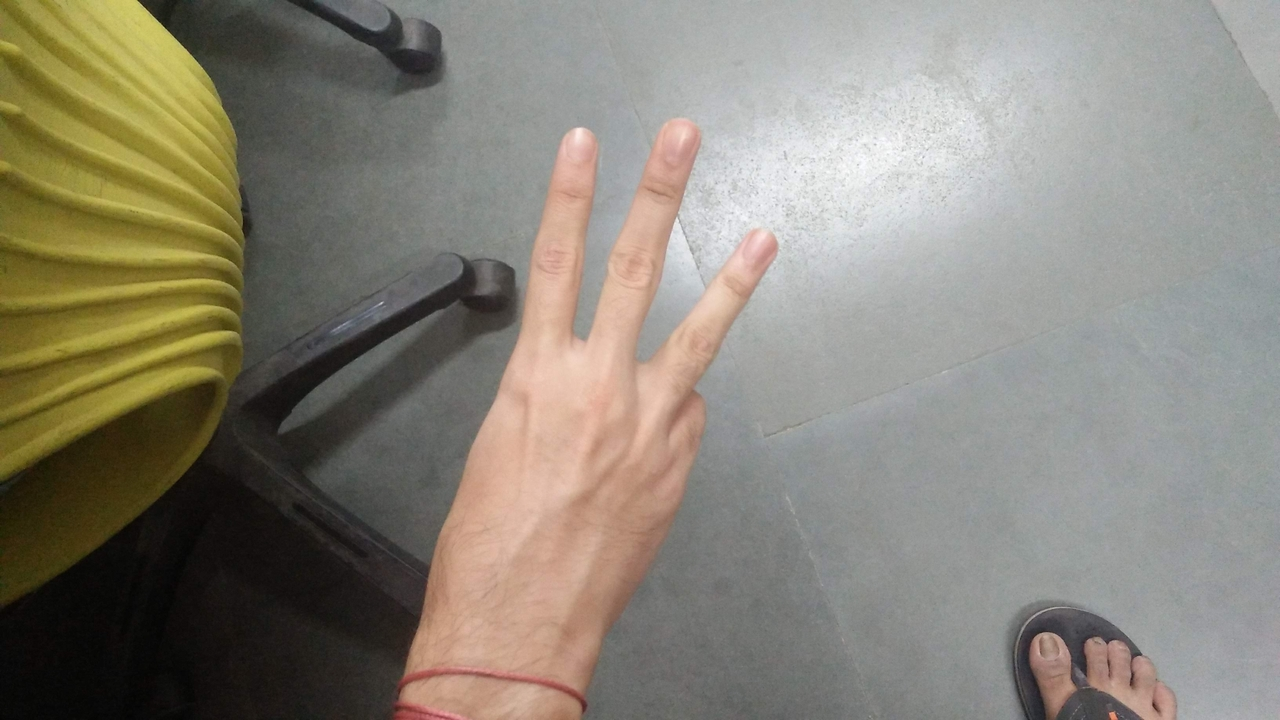fingertip: (646, 112, 712, 164), (726, 218, 786, 272), (546, 122, 608, 172)
